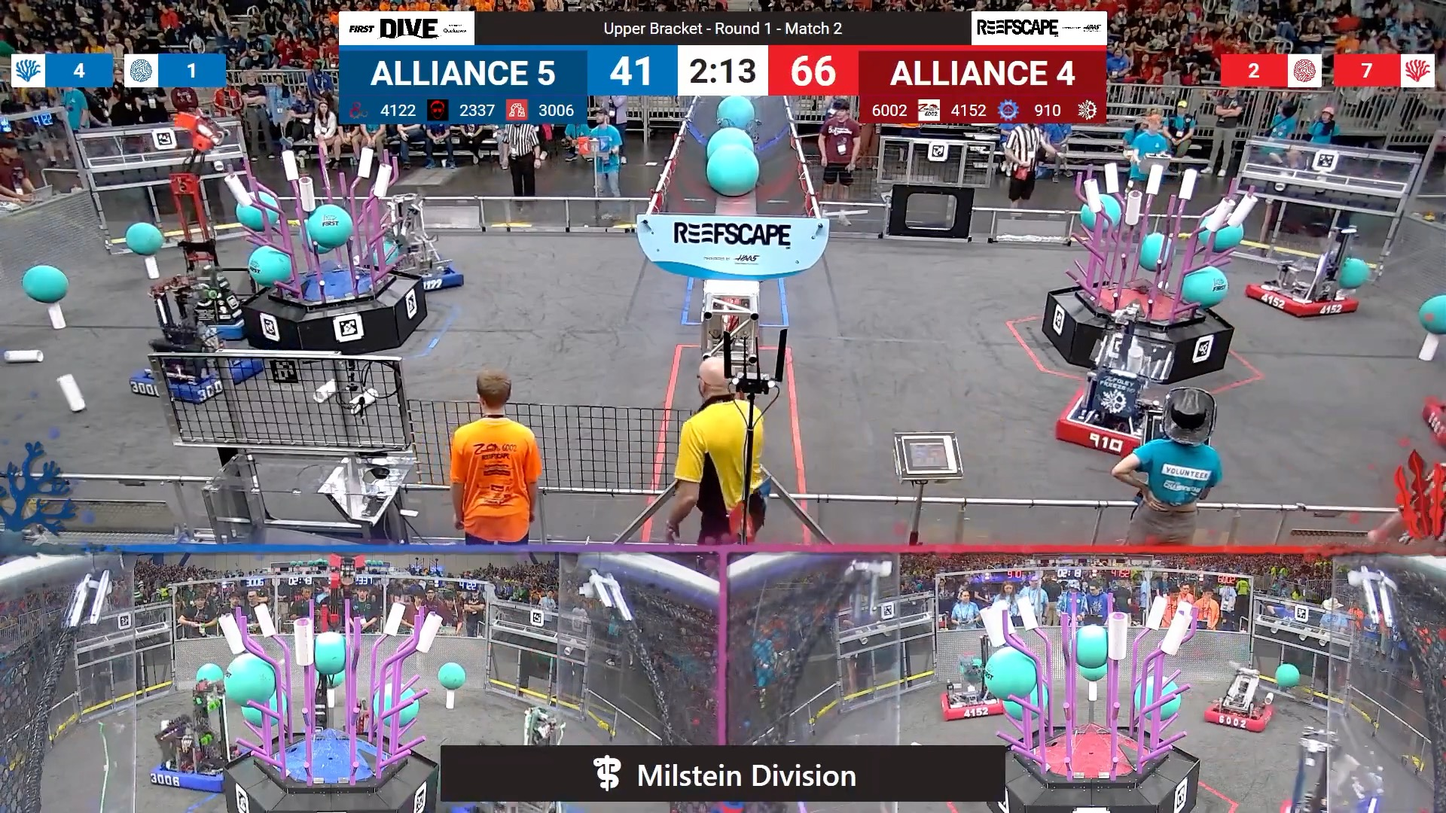bumpers: (1052, 389, 1171, 461), (127, 354, 267, 405), (1239, 281, 1365, 325), (145, 743, 246, 793), (1196, 695, 1280, 732), (385, 257, 471, 291), (937, 683, 1010, 723), (1272, 790, 1380, 812)
